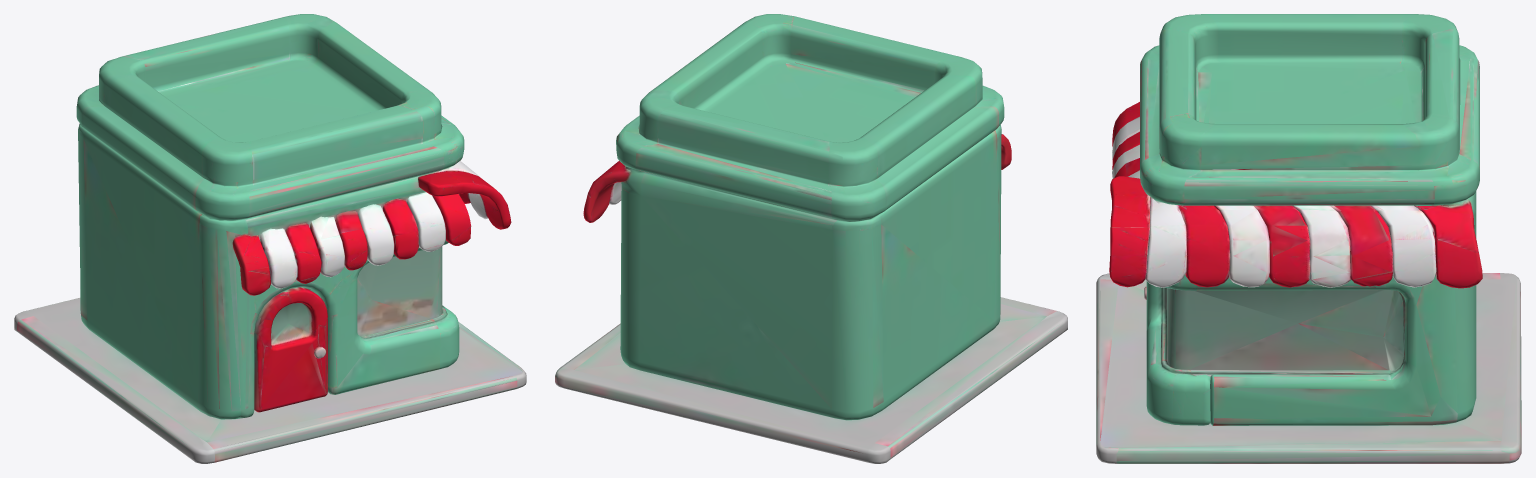
File: bld-shop.glb
The picture shows the model from 3 angles, left to right: view 1: azimuth 30°, elevation 25°; view 2: azimuth 150°, elevation 25°; view 3: azimuth 270°, elevation 25°; orthographic projection. The views are drawn at different scales.
Bounding box in the file's own units: 1.27 × 1 × 1.27.
1 material, 1 textured.
